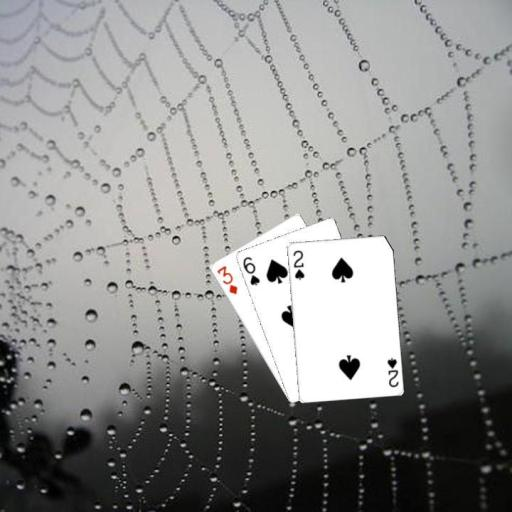2S: (289, 247, 306, 281), (384, 354, 400, 388)
3D: (213, 262, 239, 296)
6S: (240, 253, 261, 287)
